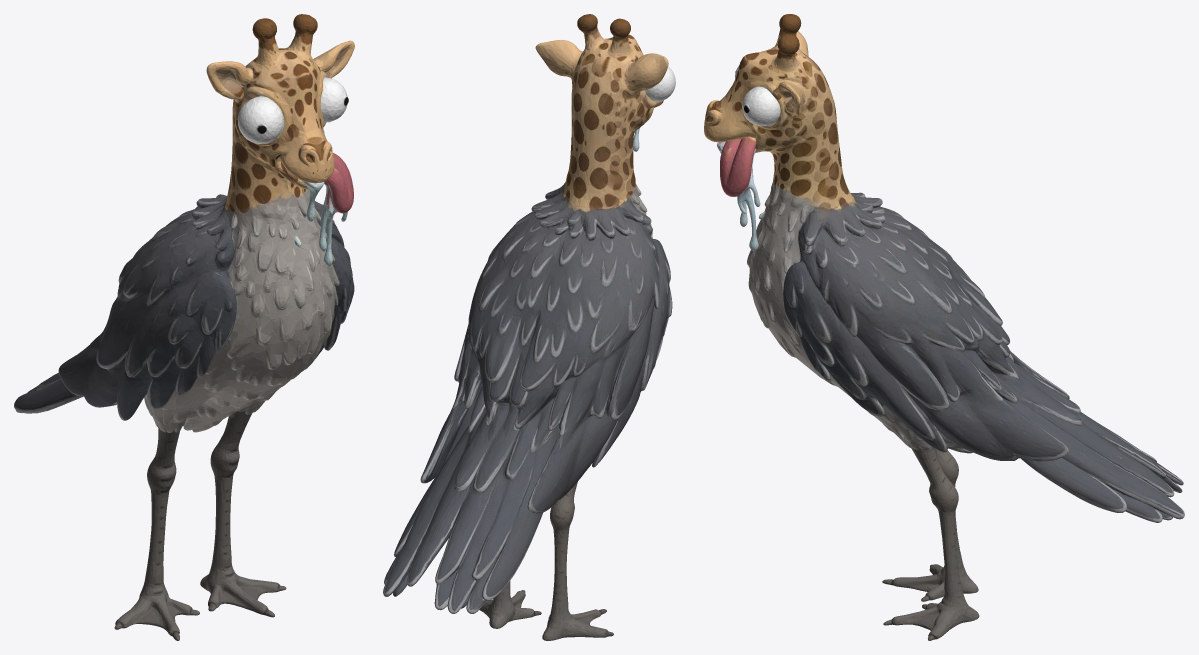
The model's file is marvin.glb.
3 renders of one model, left to right at view 1: azimuth 30°, elevation 25°; view 2: azimuth 150°, elevation 25°; view 3: azimuth 270°, elevation 25°, orthographic. The views are drawn at different scales.
Bounding box in the file's own units: 0.6133 × 1.9 × 1.42.
Materials: 1 (1 with a texture image).
